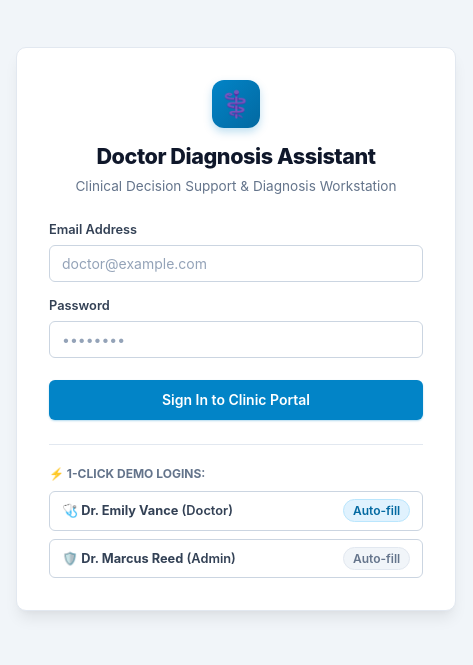
Scenario: Login Flow › displays error message when login fails
The width and height of the screenshot is (473, 665).
Type "wrong@example.com" into the field labelled "Email Address" at point(236, 264), box left=49, top=245, right=423, bottom=282
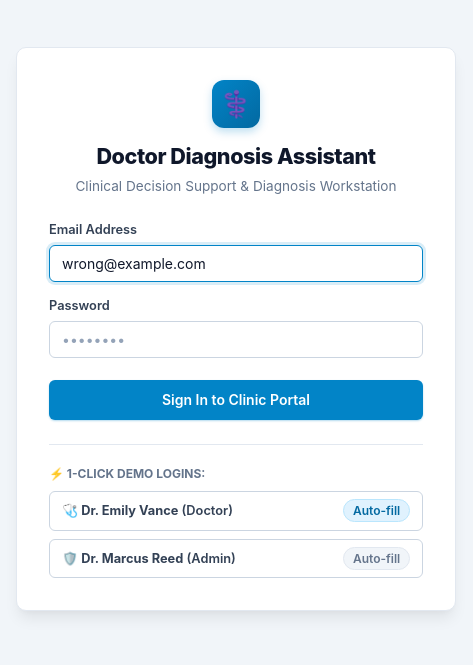
Type "WrongPass!" into the password field labelled "Password" at point(236, 339), box left=49, top=321, right=423, bottom=358
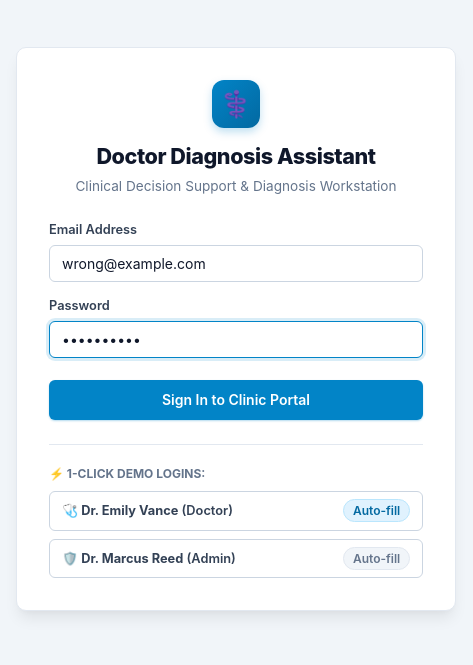
Click the button "Sign In to Clinic Portal" at point(236, 400), box left=49, top=380, right=423, bottom=420
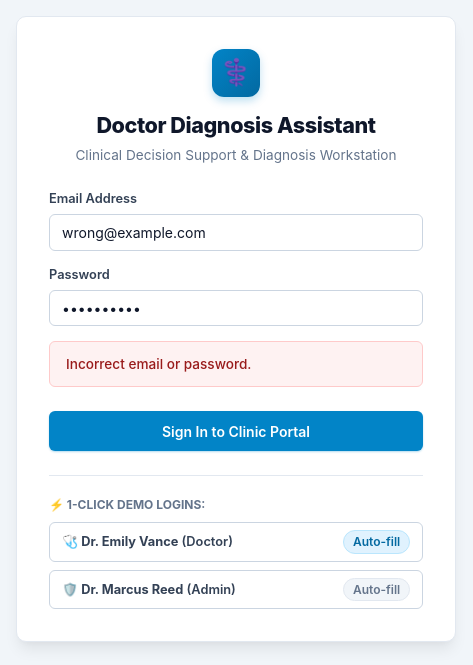
Check: the text "Incorrect email or password." is shown, box left=49, top=341, right=423, bottom=387
